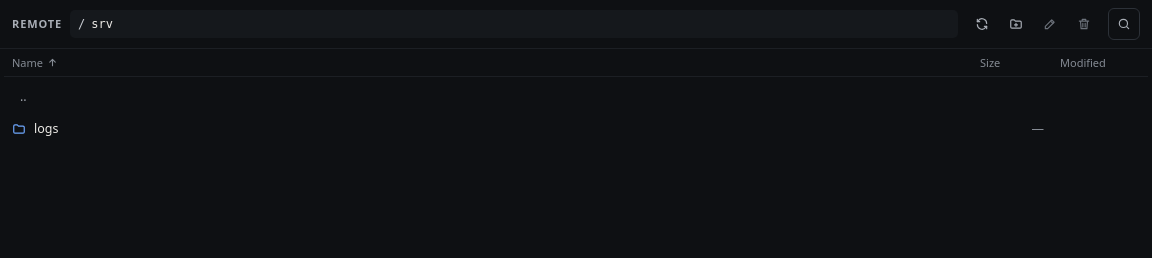
FilePane search › shows the fallback notice and sends the chosen remote method
Check: the text "logs" is shown, box [12, 120, 58, 137]
Click the button named "Search files" at (1124, 24), box [1108, 8, 1140, 40]
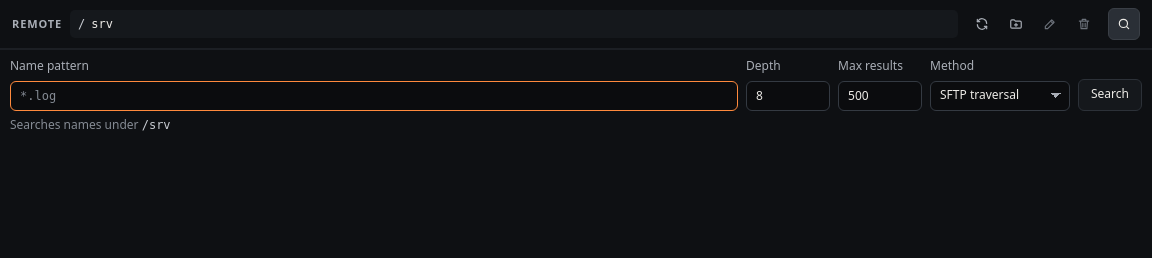
Select "Remote find" in the dropdown labelled "Method" at (1000, 96), box [930, 81, 1070, 111]
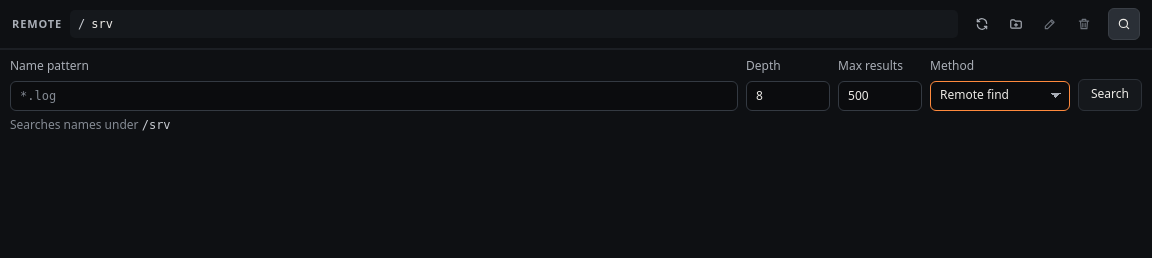
Type "x" into the field labelled "Name pattern" at (374, 96), box [10, 81, 738, 111]
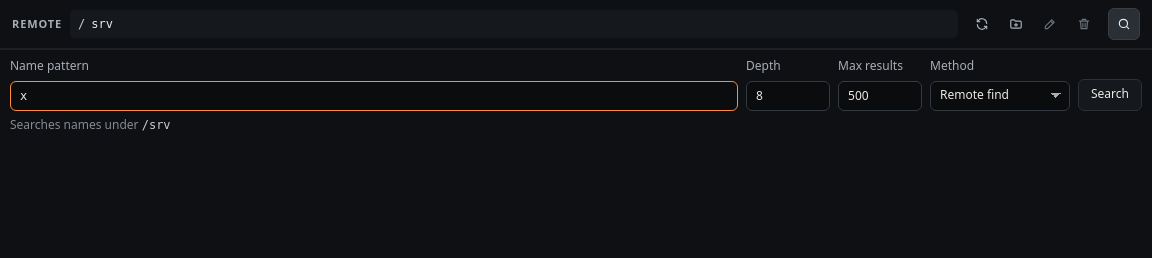
Click the button "Search" at (1110, 95), box [1078, 79, 1142, 111]
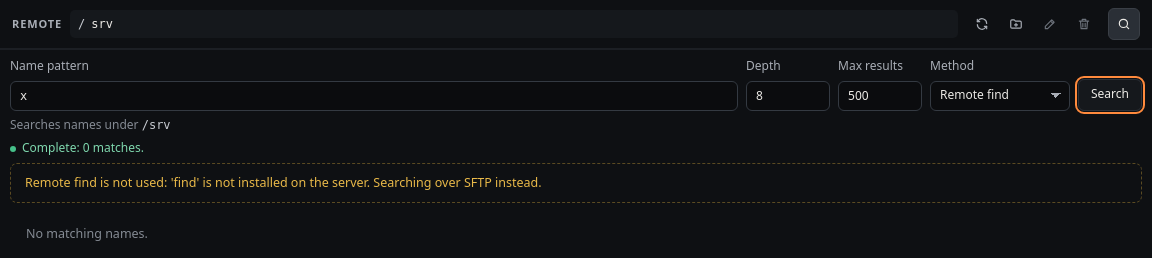
Check: the text "Searching over SFTP instead" is shown, box [25, 174, 542, 191]
Check: the text "No matching names." is shown, box [26, 224, 148, 242]
